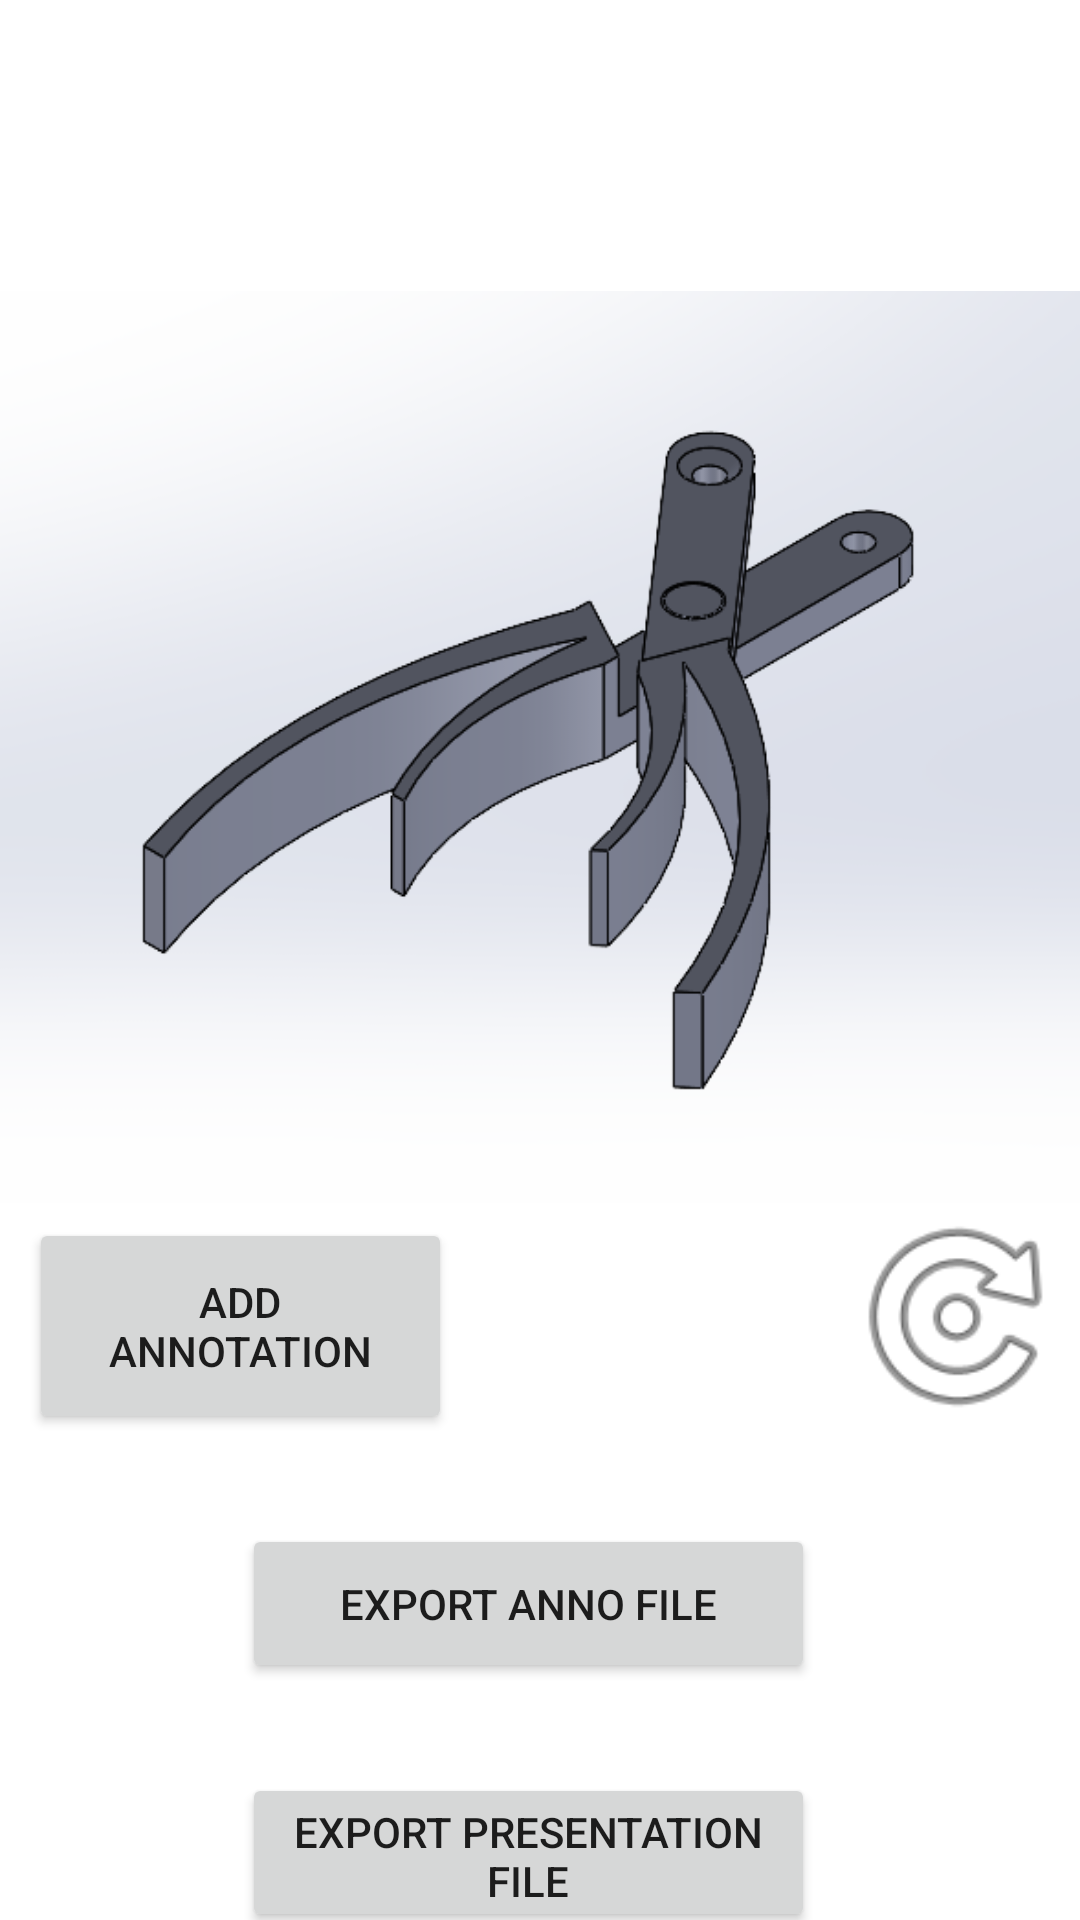

Icons on this 1080px x 1920px Android screen, each with its box as {"x1": x1, "y1": y1, "x2": x2, "y2": y2}:
rotate: {"x1": 869, "y1": 1228, "x2": 1042, "y2": 1406}
